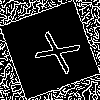X: (25, 25, 81, 75)
